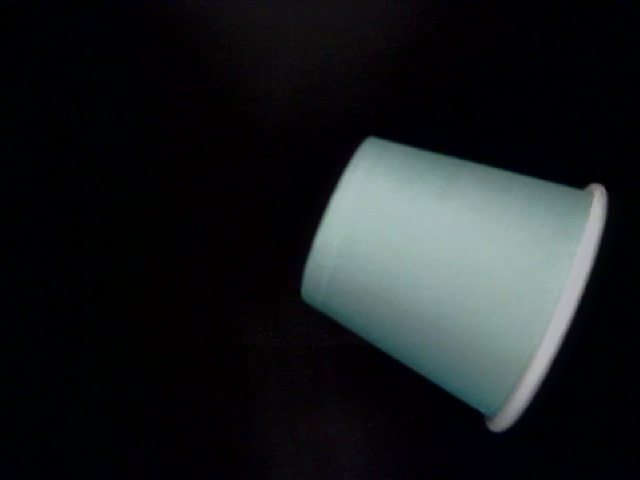KHSLJ: (151, 81, 640, 392)
